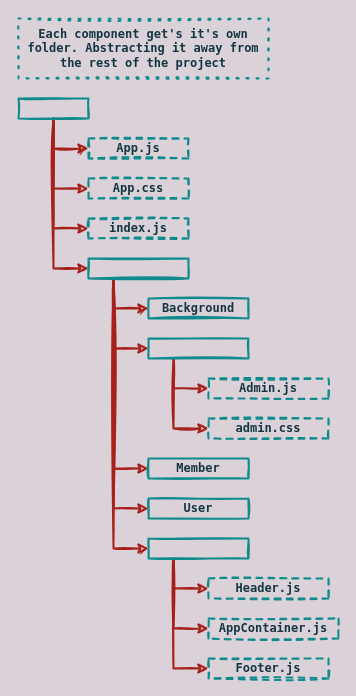
Image size: 356x696. Some labels were removed from this diagram. Each missing label, with the centre of its shape:
"Admin" belongs at point 198,348.
"Components" belongs at point 138,268.
"layout" belongs at point 198,548.
"SRC" belongs at point 53,108.
